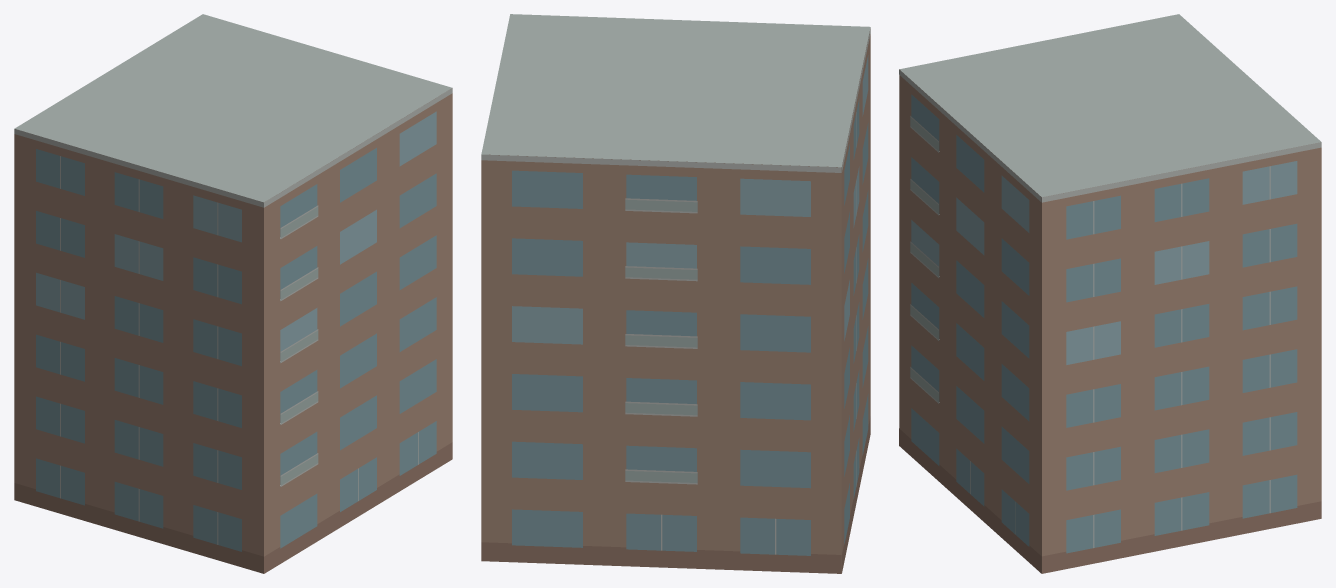
Rendered from survey-upis-32745671.glb.
The picture shows the model from 3 angles, left to right: view 1: azimuth 30°, elevation 25°; view 2: azimuth 150°, elevation 25°; view 3: azimuth 270°, elevation 25°; orthographic projection. The views are drawn at different scales.
Parts seen in each view (by area): view 1: survey-upis-32745671.tmp; view 2: survey-upis-32745671.tmp; view 3: survey-upis-32745671.tmp.
Boxes of the visible parts, x1,y1,x2,y2 form: survey-upis-32745671.tmp: (14,14,452,573); survey-upis-32745671.tmp: (481,14,870,573); survey-upis-32745671.tmp: (899,14,1321,573).
Size of the model in its own units: 17.86 by 17.1 by 17.4.
